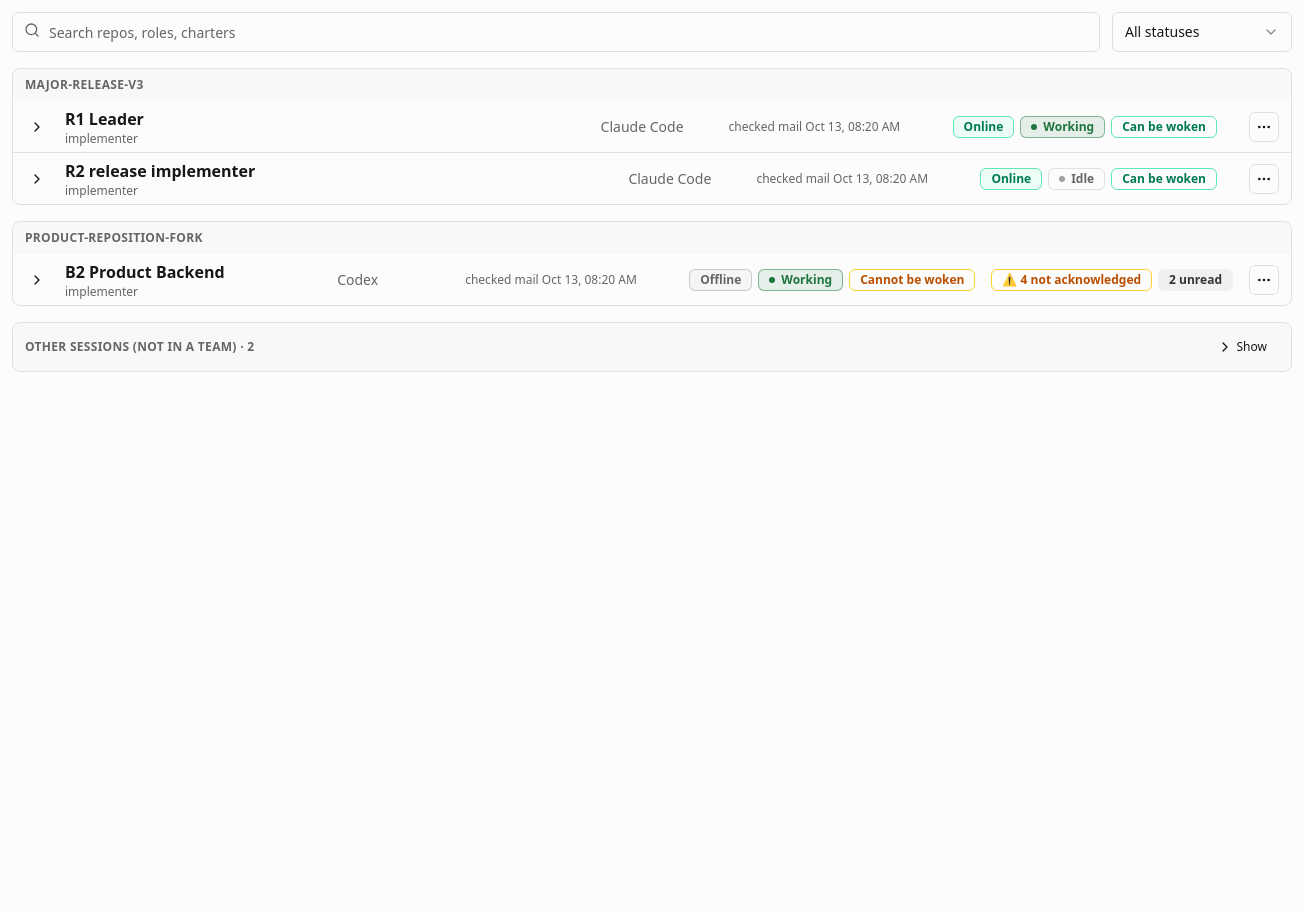
Test: Team tab roster › shows no charter, path or session until the row is expanded
Expected: the text "Charter of R1 Leader" is not shown
Click the button named "Show details of R1 Leader": click(37, 126) 25,114 -> 49,138
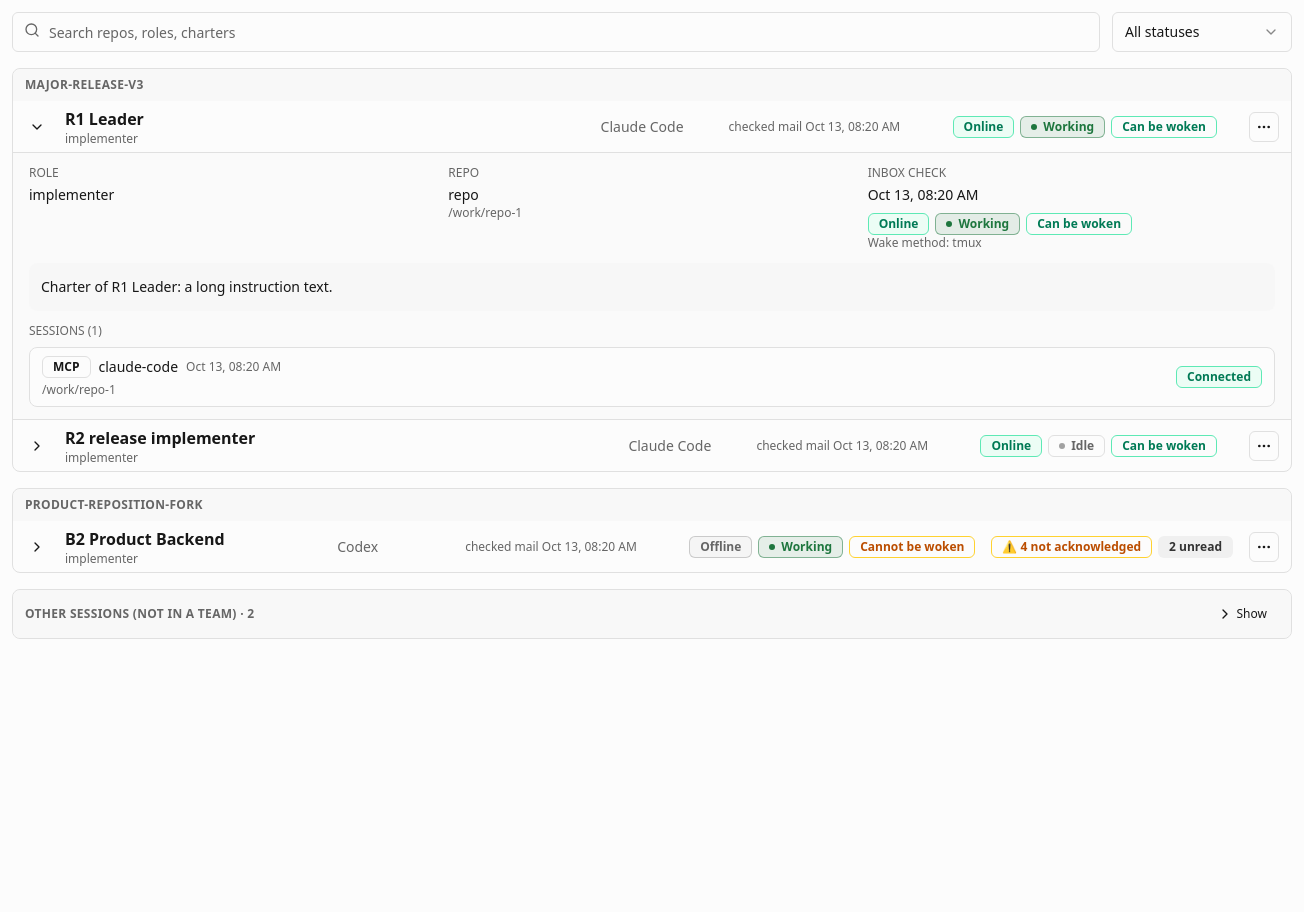
Expected: the button named "Show details of R1 Leader" is expanded
Expected: the text "Charter of R1 Leader: a long instruction text." is shown, 29,263 -> 1275,311
Expected: the text "/work/repo-1" below "Inbox check" is shown, 448,204 -> 522,221
Click the button named "Show details of R1 Leader": click(37, 126) 25,114 -> 49,138
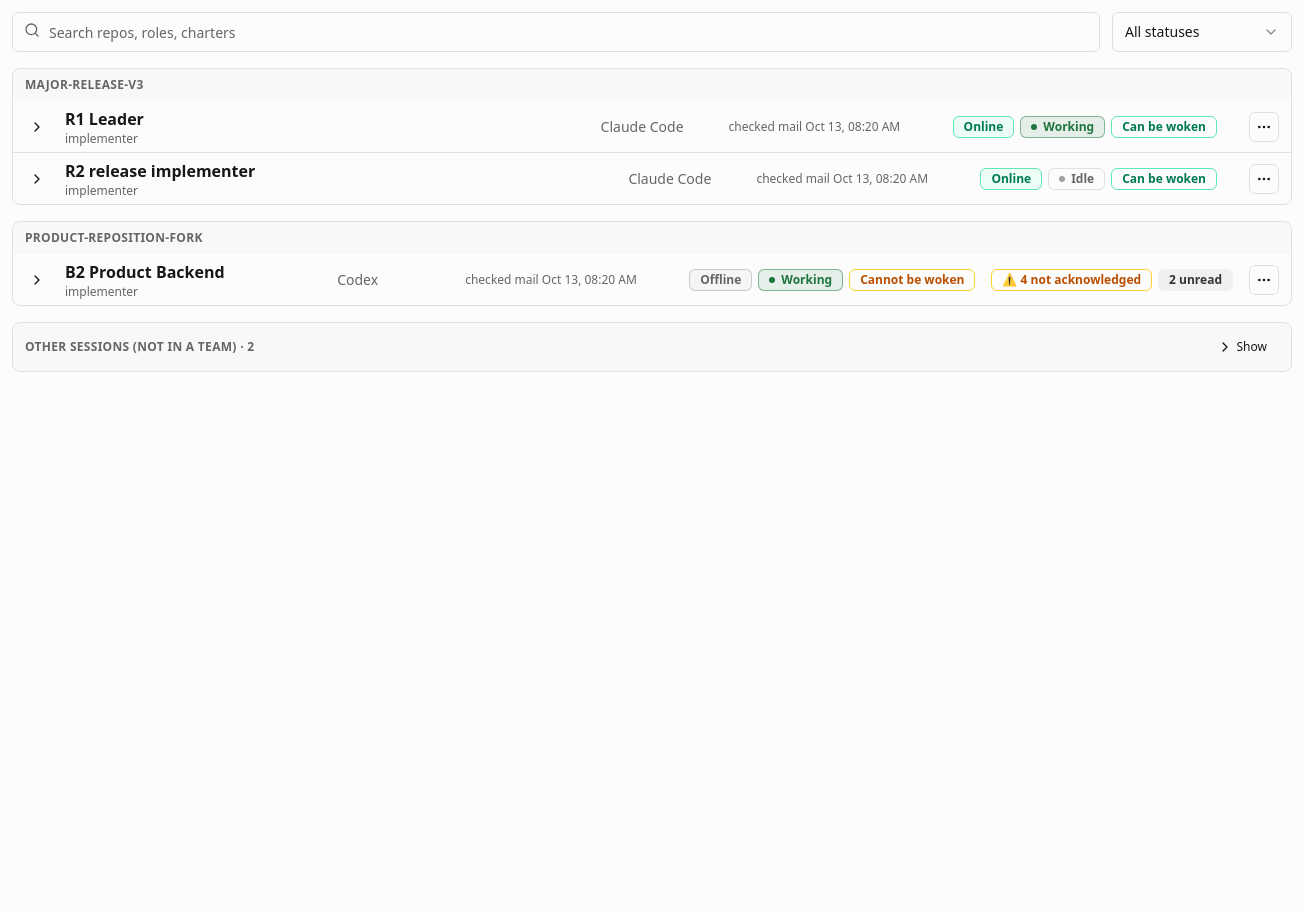
Expected: the text "Charter of R1 Leader" is gone
